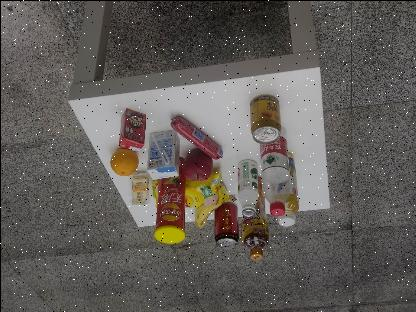Can: (247, 94, 281, 144), (213, 204, 239, 248)
Others: (155, 158, 187, 246), (144, 128, 180, 180), (116, 107, 146, 153)
Plastic Bottle: (255, 135, 297, 217)
